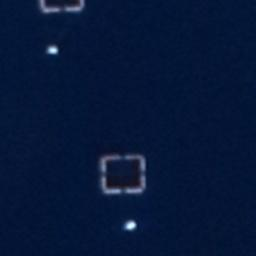square_solid: (94, 143, 156, 202), (33, 1, 91, 22)
